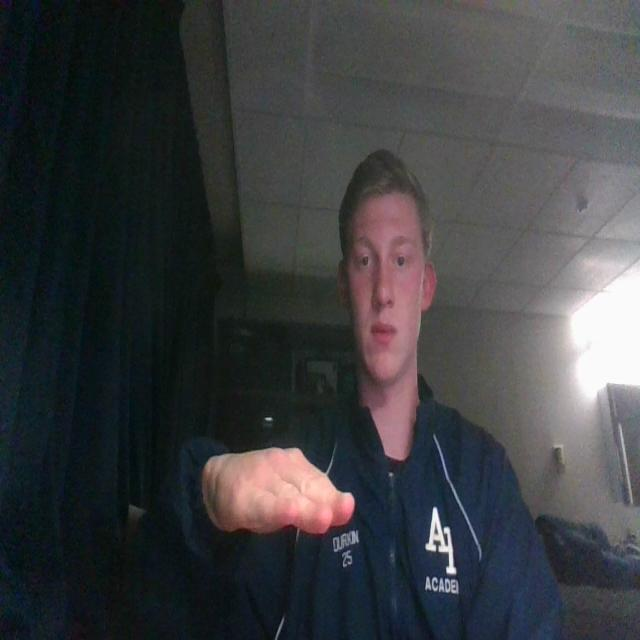paper: (203, 439, 358, 545)
